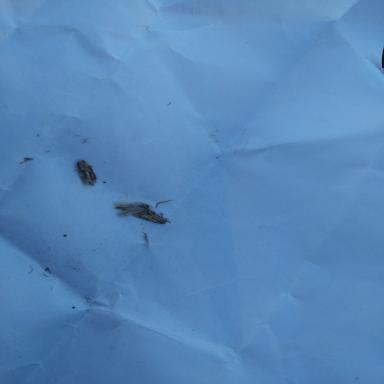pbw: (132, 208, 172, 225), (113, 201, 154, 216), (76, 160, 98, 186)
